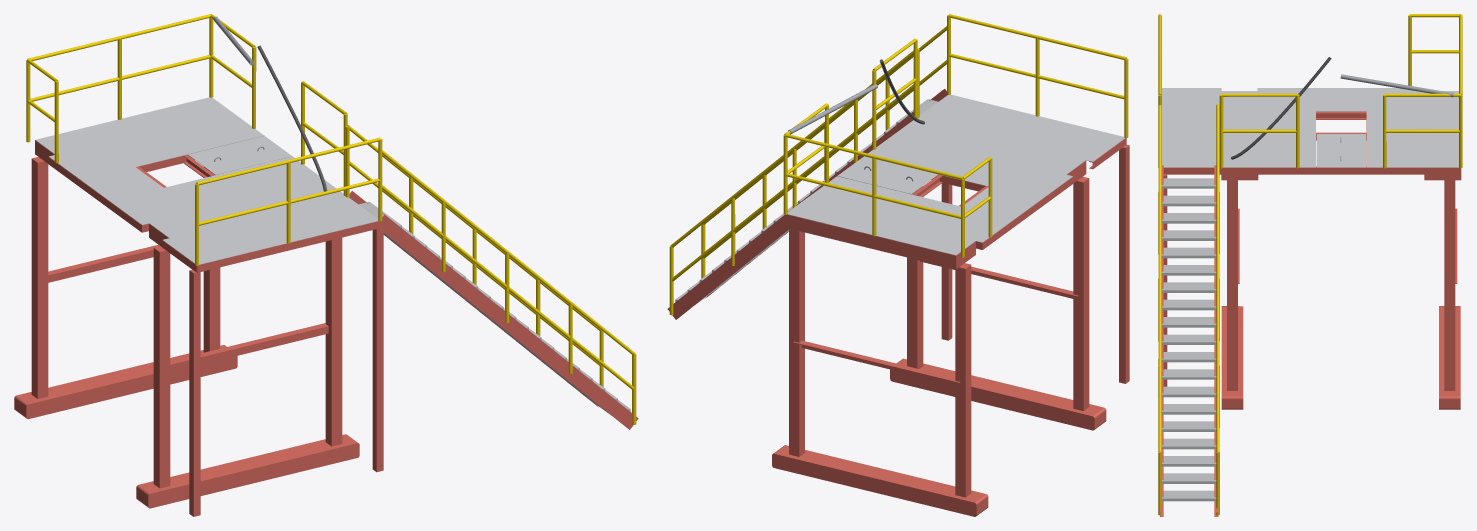
The model's file is sk575_piso.glb.
3 renders of one model, left to right at view 1: azimuth 30°, elevation 25°; view 2: azimuth 150°, elevation 25°; view 3: azimuth 270°, elevation 25°, orthographic. The views are drawn at different scales.
Visible parts, largest first — view 1: sk575_piso_rojo, sk575_piso_acero, sk575_piso_amarillo, sk575_piso_grating; view 2: sk575_piso_rojo, sk575_piso_acero, sk575_piso_amarillo, sk575_piso_grating, sk575_piso_acero_oscuro; view 3: sk575_piso_acero, sk575_piso_rojo, sk575_piso_grating, sk575_piso_amarillo, sk575_piso_acero_oscuro, sk575_piso_goma.
Part boxes in pixels (<box>): sk575_piso_rojo: <box>14,140,638,516</box>; sk575_piso_acero: <box>35,97,378,264</box>; sk575_piso_amarillo: <box>26,14,636,424</box>; sk575_piso_grating: <box>358,201,630,415</box>; sk575_piso_rojo: <box>667,88,1129,516</box>; sk575_piso_acero: <box>787,94,1125,255</box>; sk575_piso_amarillo: <box>669,14,1128,315</box>; sk575_piso_grating: <box>675,99,938,306</box>; sk575_piso_acero_oscuro: <box>788,84,913,181</box>; sk575_piso_acero: <box>1162,88,1458,167</box>; sk575_piso_rojo: <box>1160,88,1461,516</box>; sk575_piso_grating: <box>1161,178,1216,501</box>; sk575_piso_amarillo: <box>1158,14,1462,515</box>; sk575_piso_acero_oscuro: <box>1340,74,1453,160</box>; sk575_piso_goma: <box>1231,57,1331,159</box>.
Bounding box in the file's own units: 6.47 × 5.18 × 4.2.
